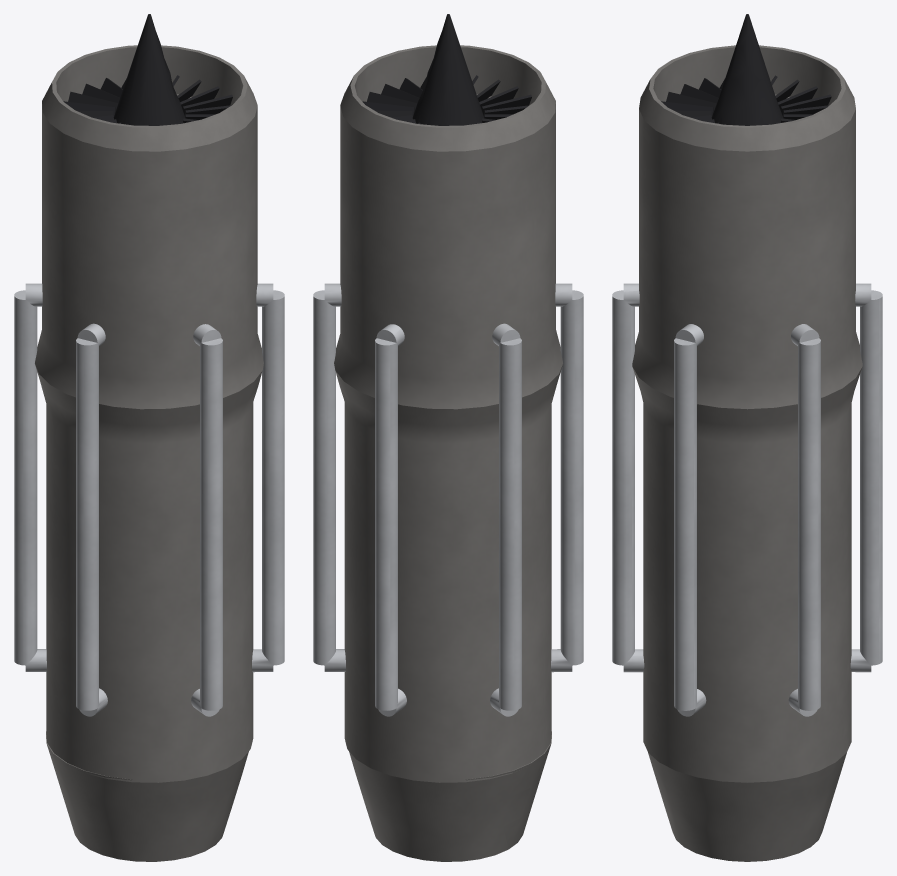
File: jet03_turbo_ramjet.glb
The picture shows the model from 3 angles, left to right: view 1: azimuth 30°, elevation 25°; view 2: azimuth 150°, elevation 25°; view 3: azimuth 270°, elevation 25°; orthographic projection.
Parts seen in each view (by area): view 1: casing, bypass_tubes, nozzle, spinner_vanes; view 2: casing, bypass_tubes, nozzle, spinner_vanes; view 3: casing, bypass_tubes, nozzle, spinner_vanes.
Part boxes in pixels (x1,y1,x2,y2): casing: [35, 45, 263, 782]; bypass_tubes: [14, 283, 284, 716]; nozzle: [46, 731, 248, 861]; spinner_vanes: [63, 14, 232, 125]; casing: [334, 45, 562, 782]; bypass_tubes: [313, 283, 583, 716]; nozzle: [349, 731, 551, 861]; spinner_vanes: [362, 14, 531, 125]; casing: [632, 45, 862, 782]; bypass_tubes: [612, 283, 882, 716]; nozzle: [648, 753, 846, 861]; spinner_vanes: [661, 14, 831, 125].
Size of the model in its own units: 1.65 by 6.25 by 1.88.
4 materials, 3 textured.
